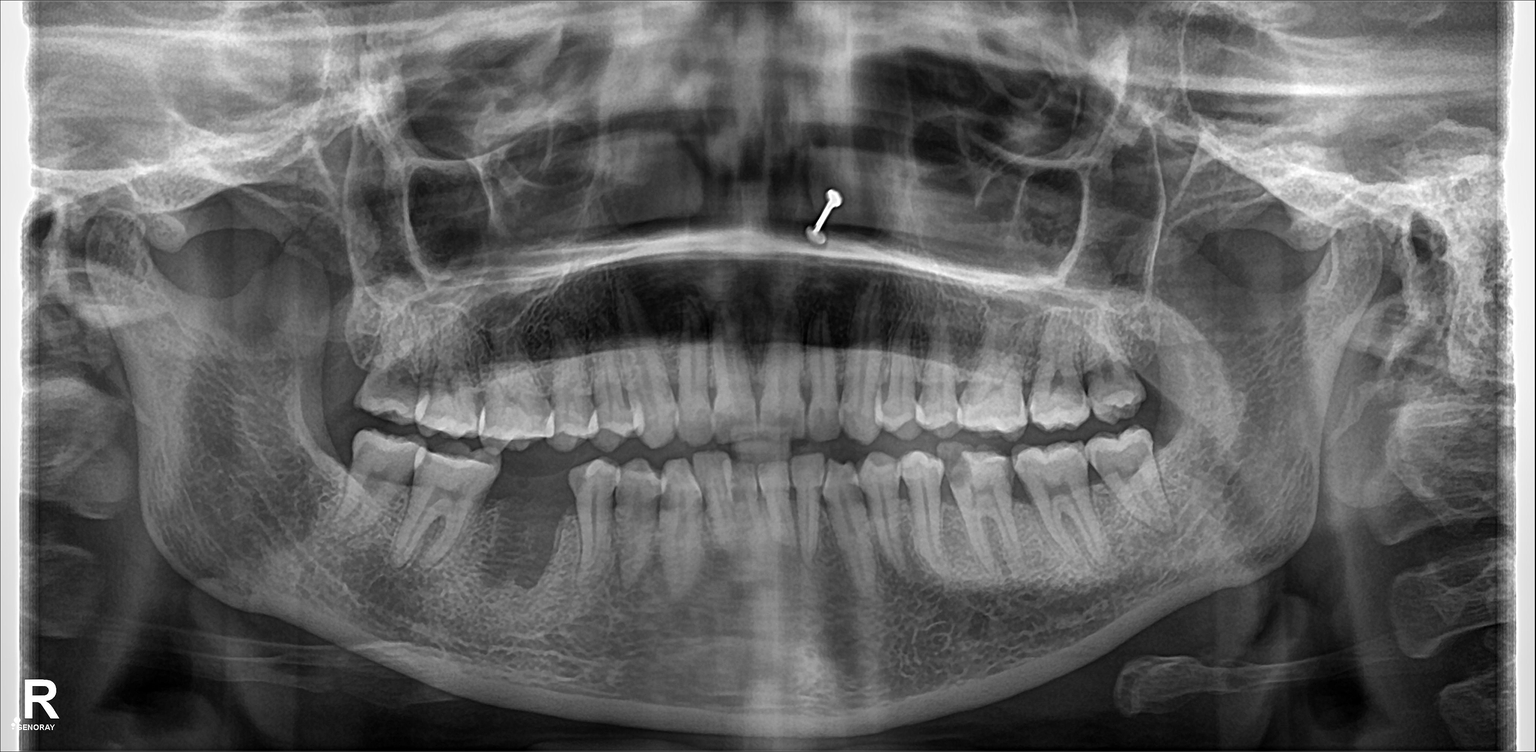Dental Caries: (378, 359, 419, 407), (939, 452, 980, 496)
Missing Tooth: (499, 462, 569, 565), (318, 315, 359, 417)
